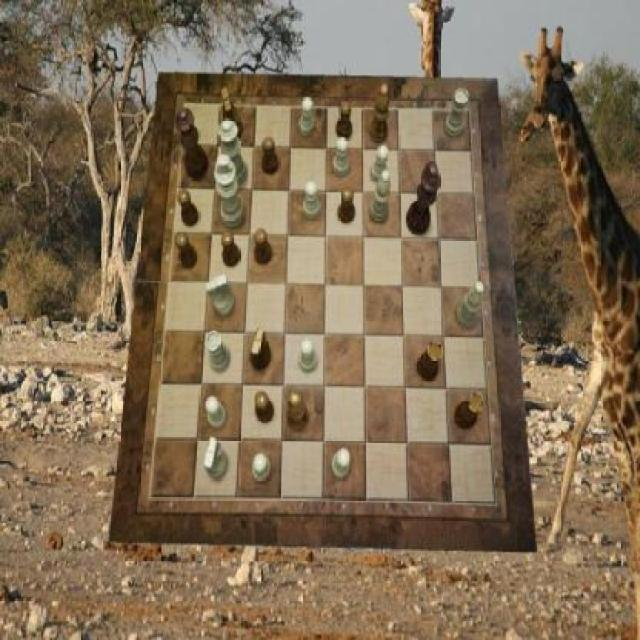bishop: (371, 85, 391, 143), (286, 392, 309, 432)
black-bishop: (406, 162, 442, 236)
black-king: (222, 88, 242, 142), (249, 328, 272, 370)
black-knight: (177, 189, 199, 227), (176, 231, 197, 268), (222, 231, 242, 267), (256, 392, 276, 425), (263, 137, 280, 175), (337, 102, 354, 140), (254, 230, 271, 266), (339, 188, 356, 224)
black-pawn: (176, 108, 210, 180)
black-queen: (456, 392, 486, 430), (417, 342, 443, 382)
black-rook: (457, 282, 485, 329), (369, 171, 392, 223)
white-bishop: (216, 154, 246, 228)
white-king: (207, 275, 236, 318), (205, 437, 229, 478)
white-knight: (206, 397, 227, 431), (298, 339, 318, 373), (334, 137, 351, 177), (303, 182, 320, 220), (298, 97, 314, 137), (371, 145, 388, 182), (252, 454, 272, 481), (332, 448, 350, 478)
white-pawn: (217, 120, 248, 188)
white-queen: (445, 90, 469, 138), (206, 331, 231, 373)
